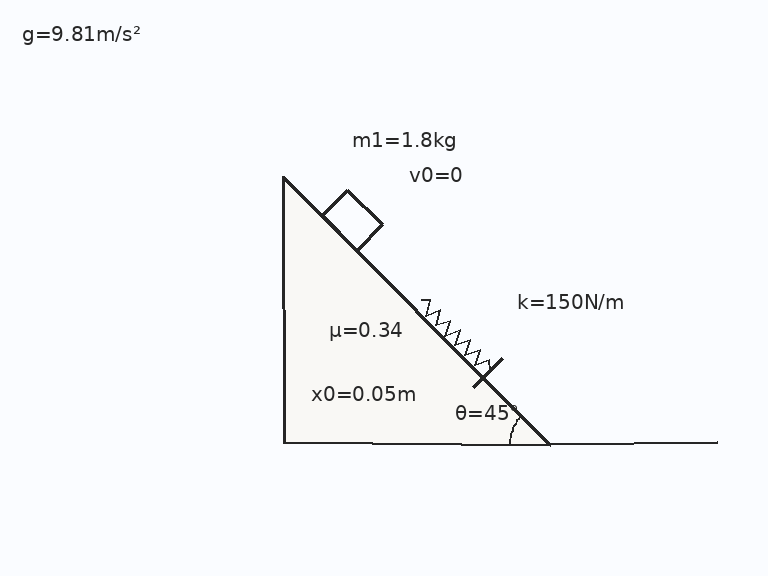block: (320, 188, 384, 252)
ramp: (281, 174, 552, 445)
spring: (418, 299, 492, 372)
